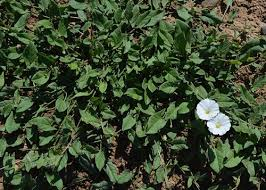bindweed: (205, 112, 231, 136), (196, 97, 220, 121)
